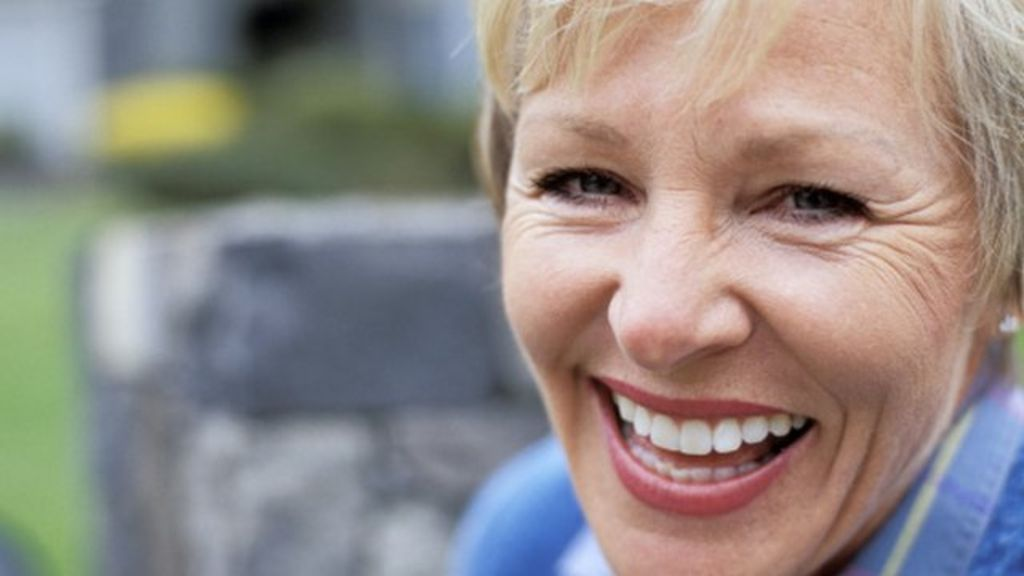happy: (497, 59, 940, 576)
